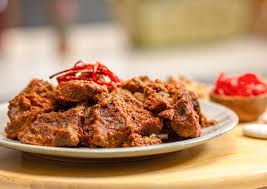rendang: (3, 55, 225, 162)
